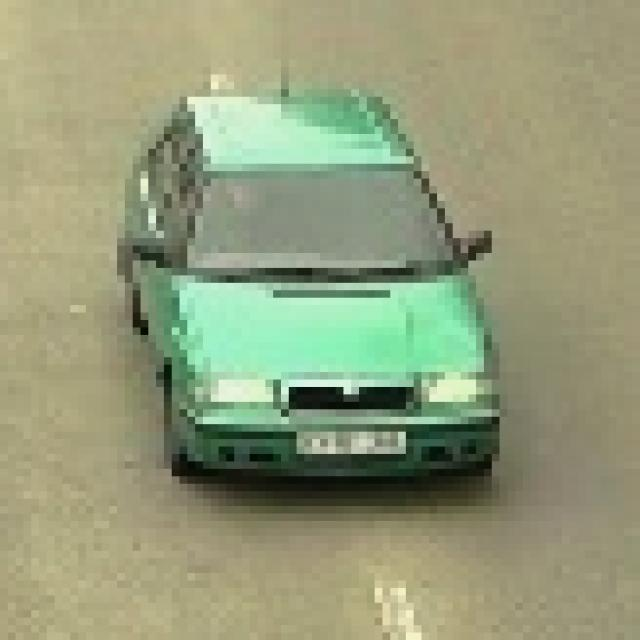green: (147, 96, 500, 484)
